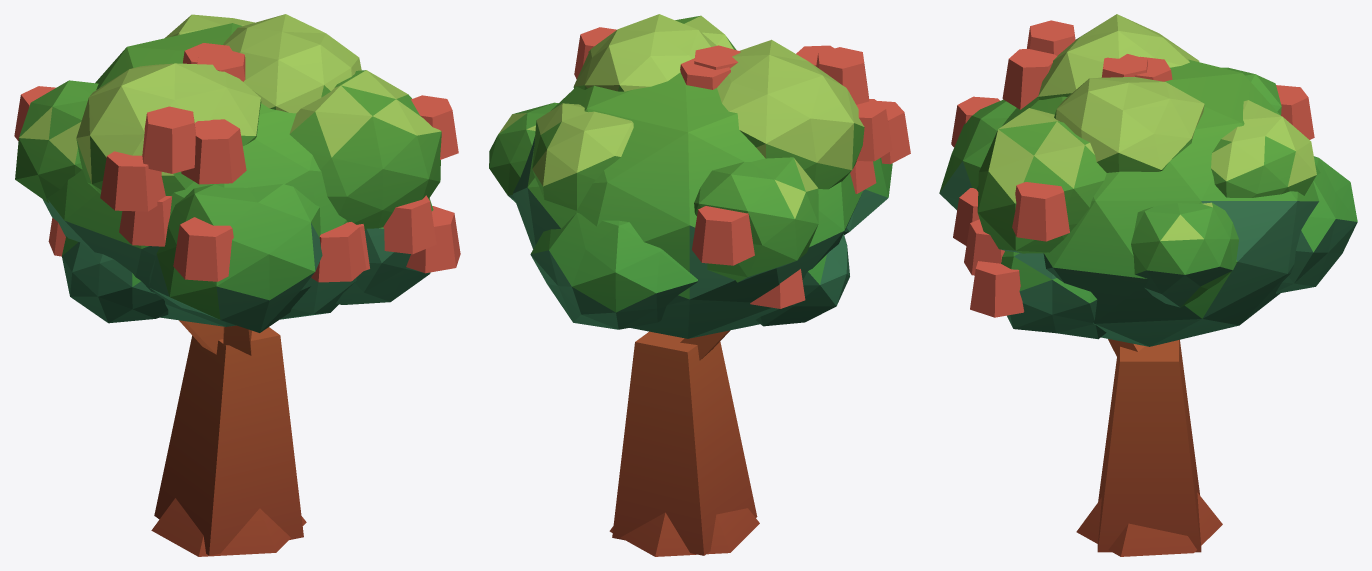
File: apple_tree.gltf
The picture shows the model from 3 angles, left to right: view 1: azimuth 30°, elevation 25°; view 2: azimuth 150°, elevation 25°; view 3: azimuth 270°, elevation 25°; orthographic projection. The views are drawn at different scales.
Parts seen in each view (by area): view 1: apple_tree; view 2: apple_tree; view 3: apple_tree.
Boxes of the visible parts, x1,y1,x2,y2 form: apple_tree: (14,14,460,556); apple_tree: (489,14,910,556); apple_tree: (939,14,1357,556).
Bounding box in the file's own units: 2.05 × 2.79 × 2.26.
Materials: 1 (1 with a texture image).
